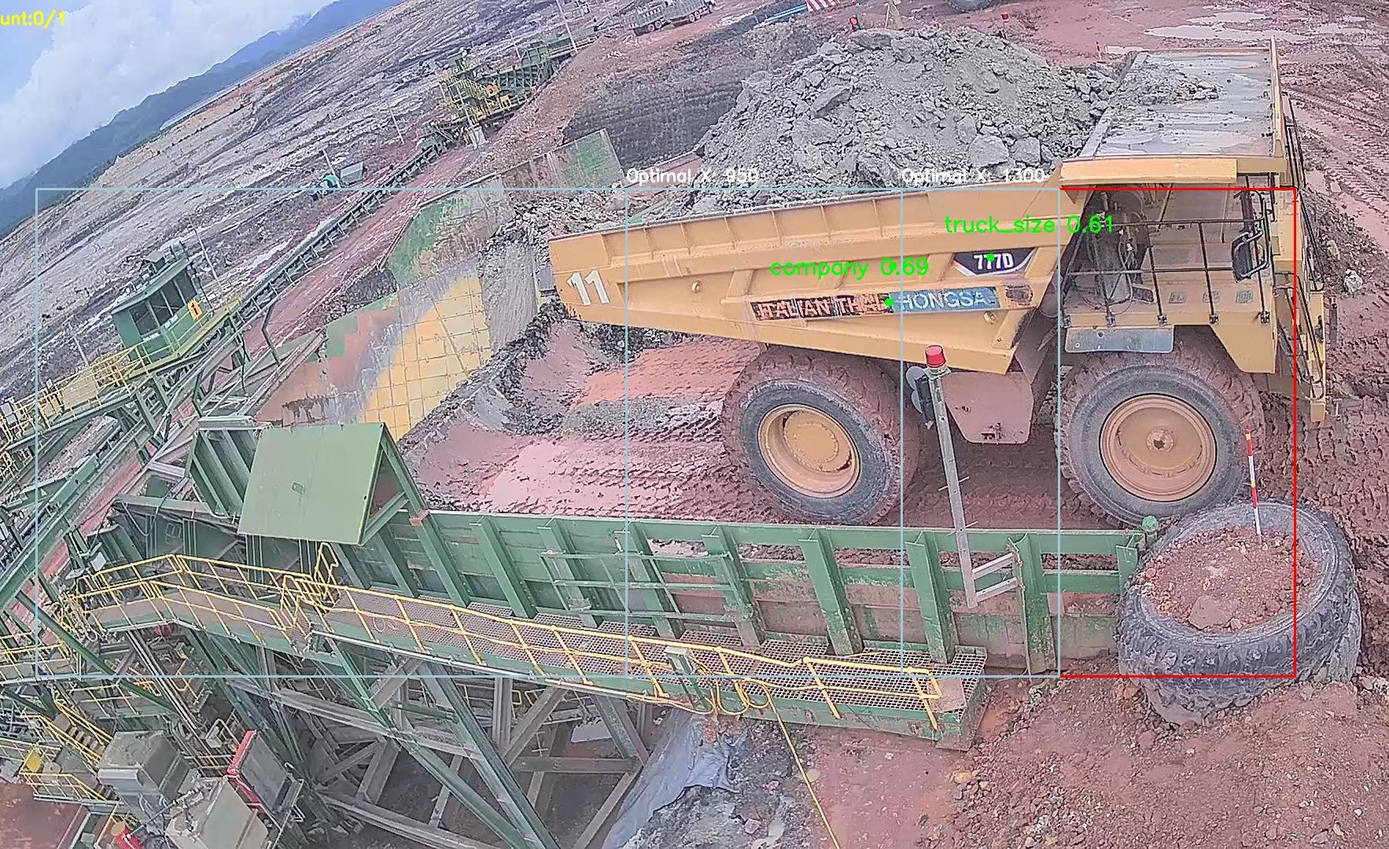company: (733, 281, 1026, 326)
full_load: (696, 19, 1091, 214)
mining_truck: (544, 8, 1339, 535)
tail_number: (557, 256, 625, 320)
truck_size: (945, 244, 1040, 280)
